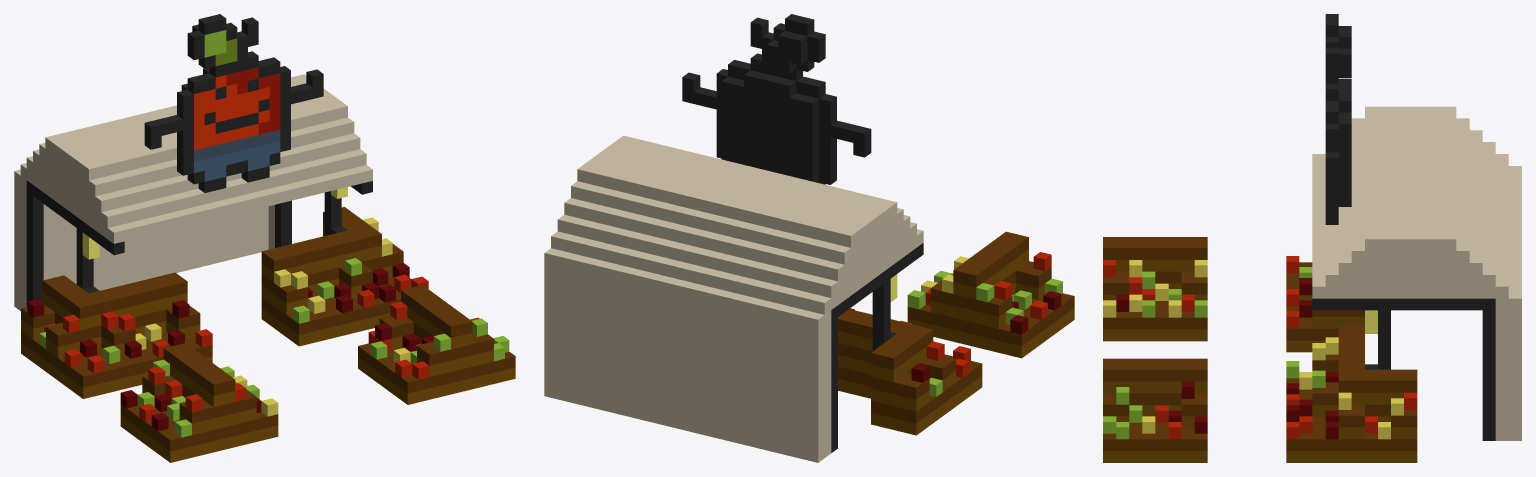
The model's file is apples1.obj.
3 views of the same model, side by side, from view 1: azimuth 30°, elevation 25°; view 2: azimuth 150°, elevation 25°; view 3: azimuth 270°, elevation 25° (orthographic). The views are drawn at different scales.
Parts seen in each view (by area): view 1: apples1; view 2: apples1; view 3: apples1.
Boxes of the visible parts, x1,y1,x2,y2 form: apples1: [14, 14, 515, 462]; apples1: [544, 14, 1074, 462]; apples1: [1103, 14, 1521, 462].
Bounding box in the file's own units: 32 × 29 × 32.
1 material, 1 textured.
